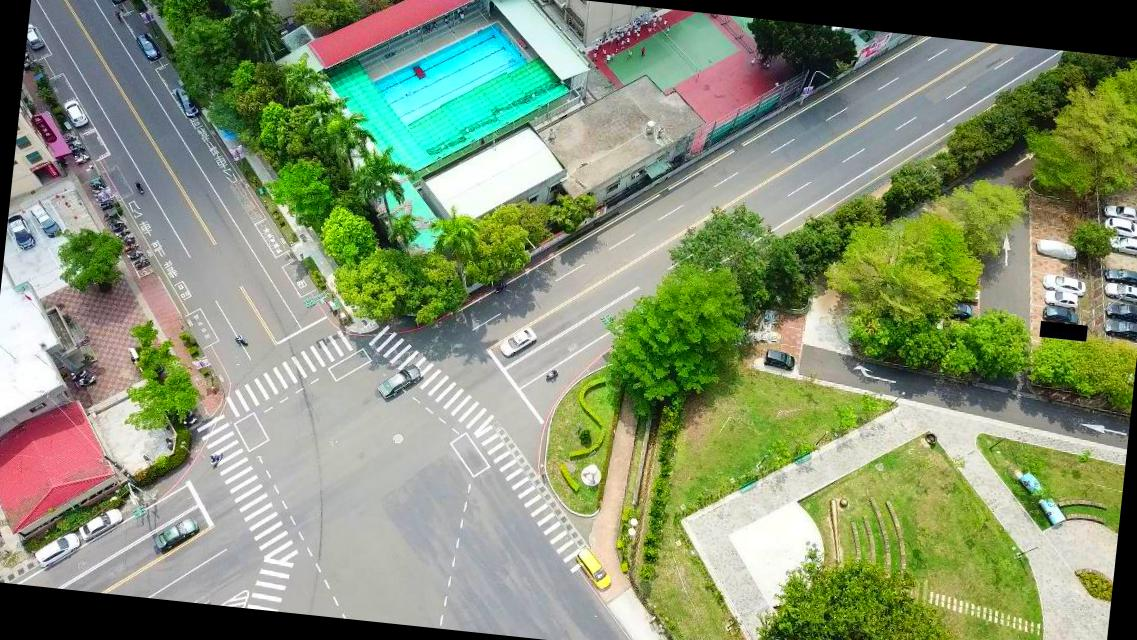vehicle: (152, 512, 202, 554), (376, 359, 424, 402), (33, 529, 81, 570), (78, 504, 124, 544), (574, 545, 614, 590), (498, 323, 537, 360), (28, 200, 64, 238), (5, 213, 37, 250), (173, 84, 204, 120), (1042, 272, 1088, 296), (1101, 215, 1136, 240), (62, 97, 90, 128), (762, 346, 795, 372), (1101, 316, 1136, 340), (135, 31, 163, 60), (1040, 304, 1080, 324), (1102, 281, 1136, 304), (1044, 288, 1080, 308), (1103, 266, 1136, 286), (1105, 300, 1136, 321), (1109, 235, 1136, 256), (25, 23, 46, 50), (946, 300, 974, 318)
